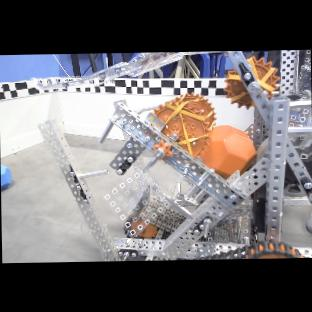Robot: (107, 50, 312, 260), (37, 118, 144, 261), (33, 51, 206, 89), (127, 204, 145, 217)
redinrobot: (202, 125, 255, 178)
